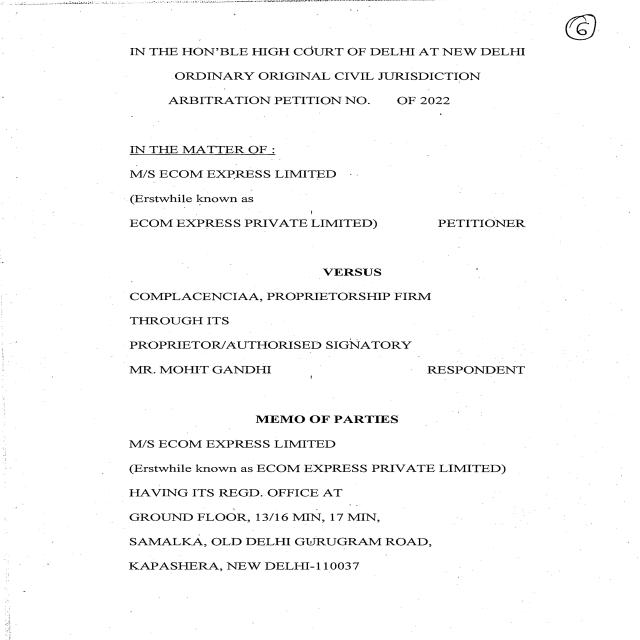page-number: (529, 0, 640, 112)
